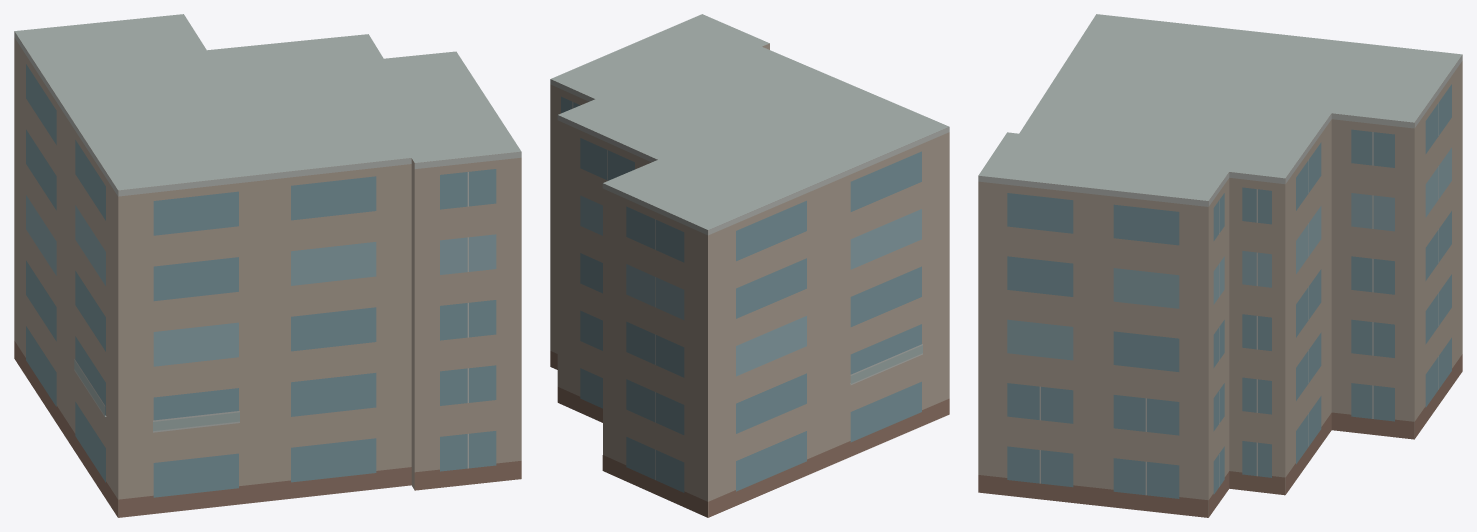
File: survey-upis-32671729.glb
3 views of the same model, side by side, from view 1: azimuth 30°, elevation 25°; view 2: azimuth 150°, elevation 25°; view 3: azimuth 270°, elevation 25° (orthographic). The views are drawn at different scales.
Visible parts, largest first — view 1: survey-upis-32671729.tmp; view 2: survey-upis-32671729.tmp; view 3: survey-upis-32671729.tmp.
Part boxes in pixels (x1=…): survey-upis-32671729.tmp: x1=14, y1=14, x2=521, y2=517; survey-upis-32671729.tmp: x1=550, y1=14, x2=949, y2=517; survey-upis-32671729.tmp: x1=978, y1=14, x2=1462, y2=517.
Size of the model in its own units: 16.6 by 13.1 by 18.16.
